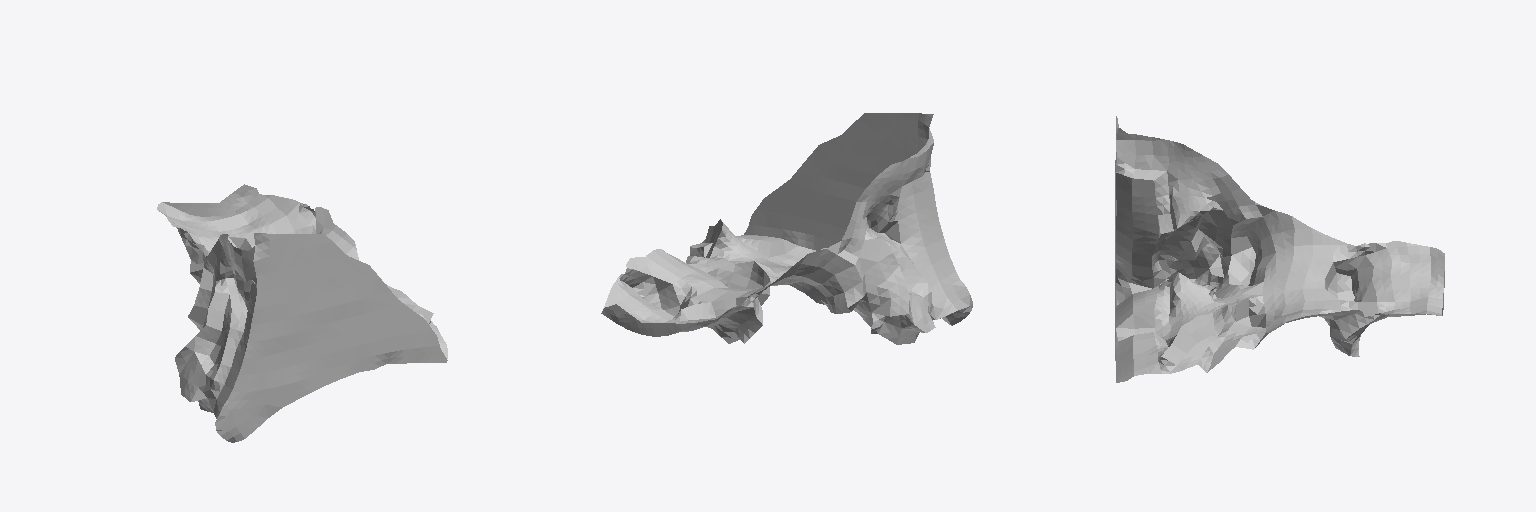
File: VSF108.obj
The picture shows the model from 3 angles: view 1: azimuth 30°, elevation 25°; view 2: azimuth 150°, elevation 25°; view 3: azimuth 270°, elevation 25°; orthographic projection.
Visible parts, largest first — view 1: VSF108; view 2: VSF108; view 3: VSF108.
Part boxes in pixels (x1,y1,x2,y2): VSF108: (157, 184, 447, 442); VSF108: (601, 113, 972, 344); VSF108: (1115, 116, 1444, 382).
Bounding box in the file's own units: 0.7234 × 0.5788 × 0.8414.